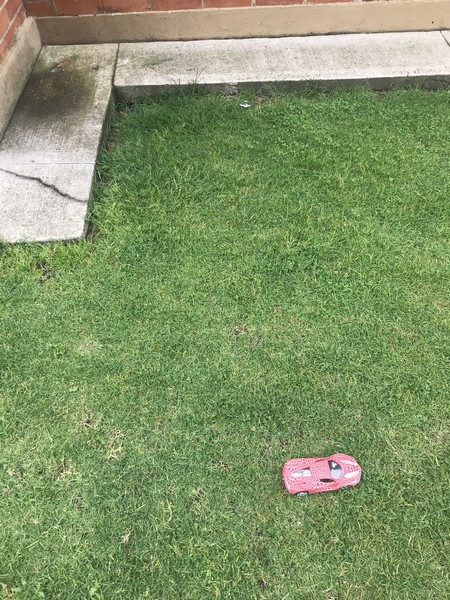RC: (282, 452, 364, 498)
